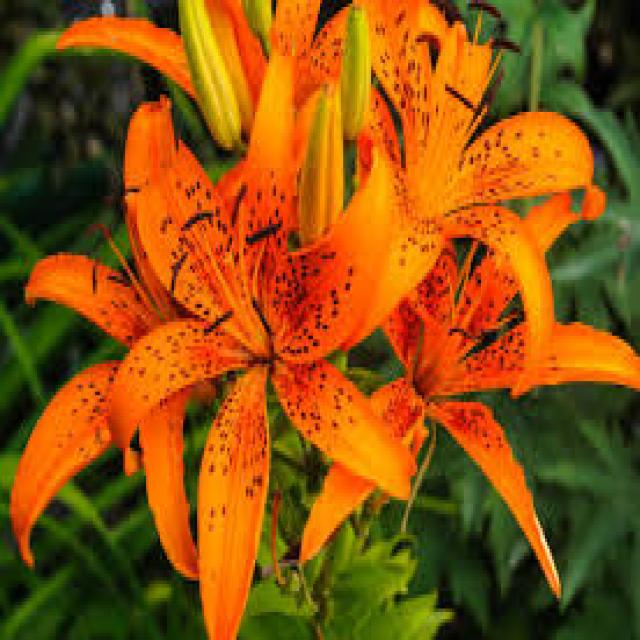lily: (12, 76, 364, 568)
